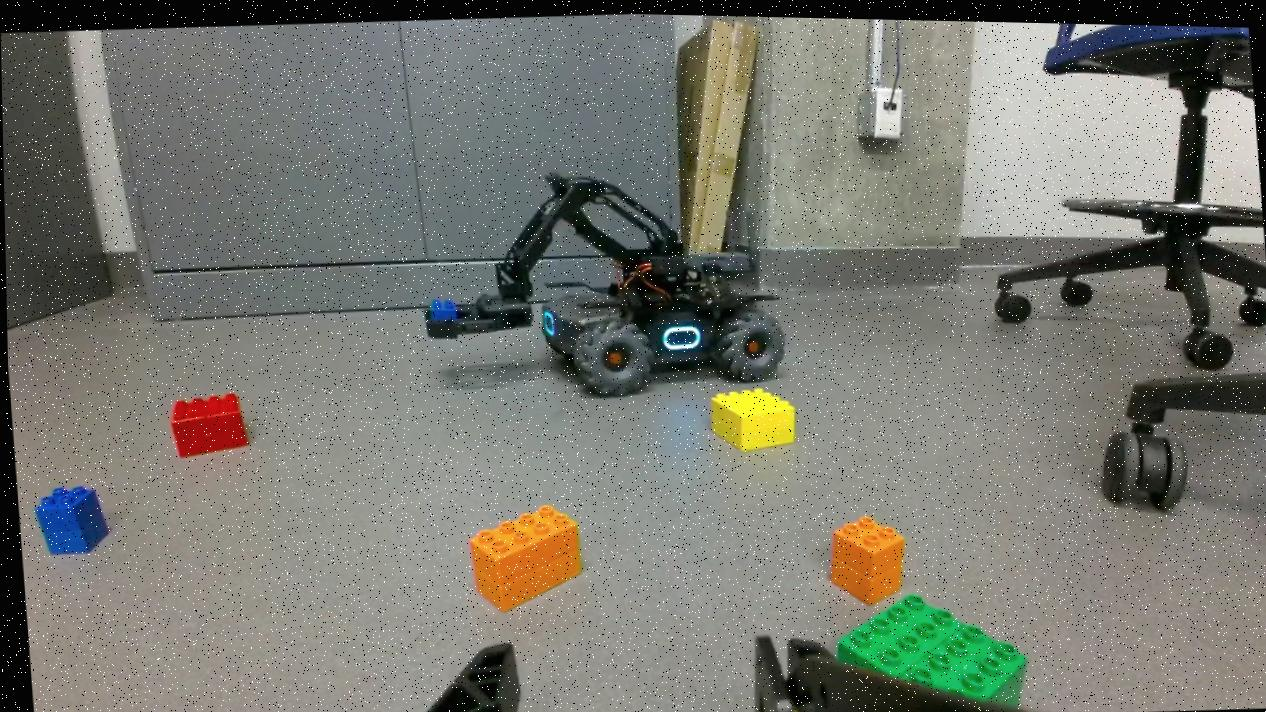2x2lego: (822, 508, 906, 603), (29, 481, 109, 559)
2x4lego: (464, 499, 584, 612)
4x4lego: (831, 575, 1028, 712), (163, 387, 249, 464), (704, 381, 795, 453)
